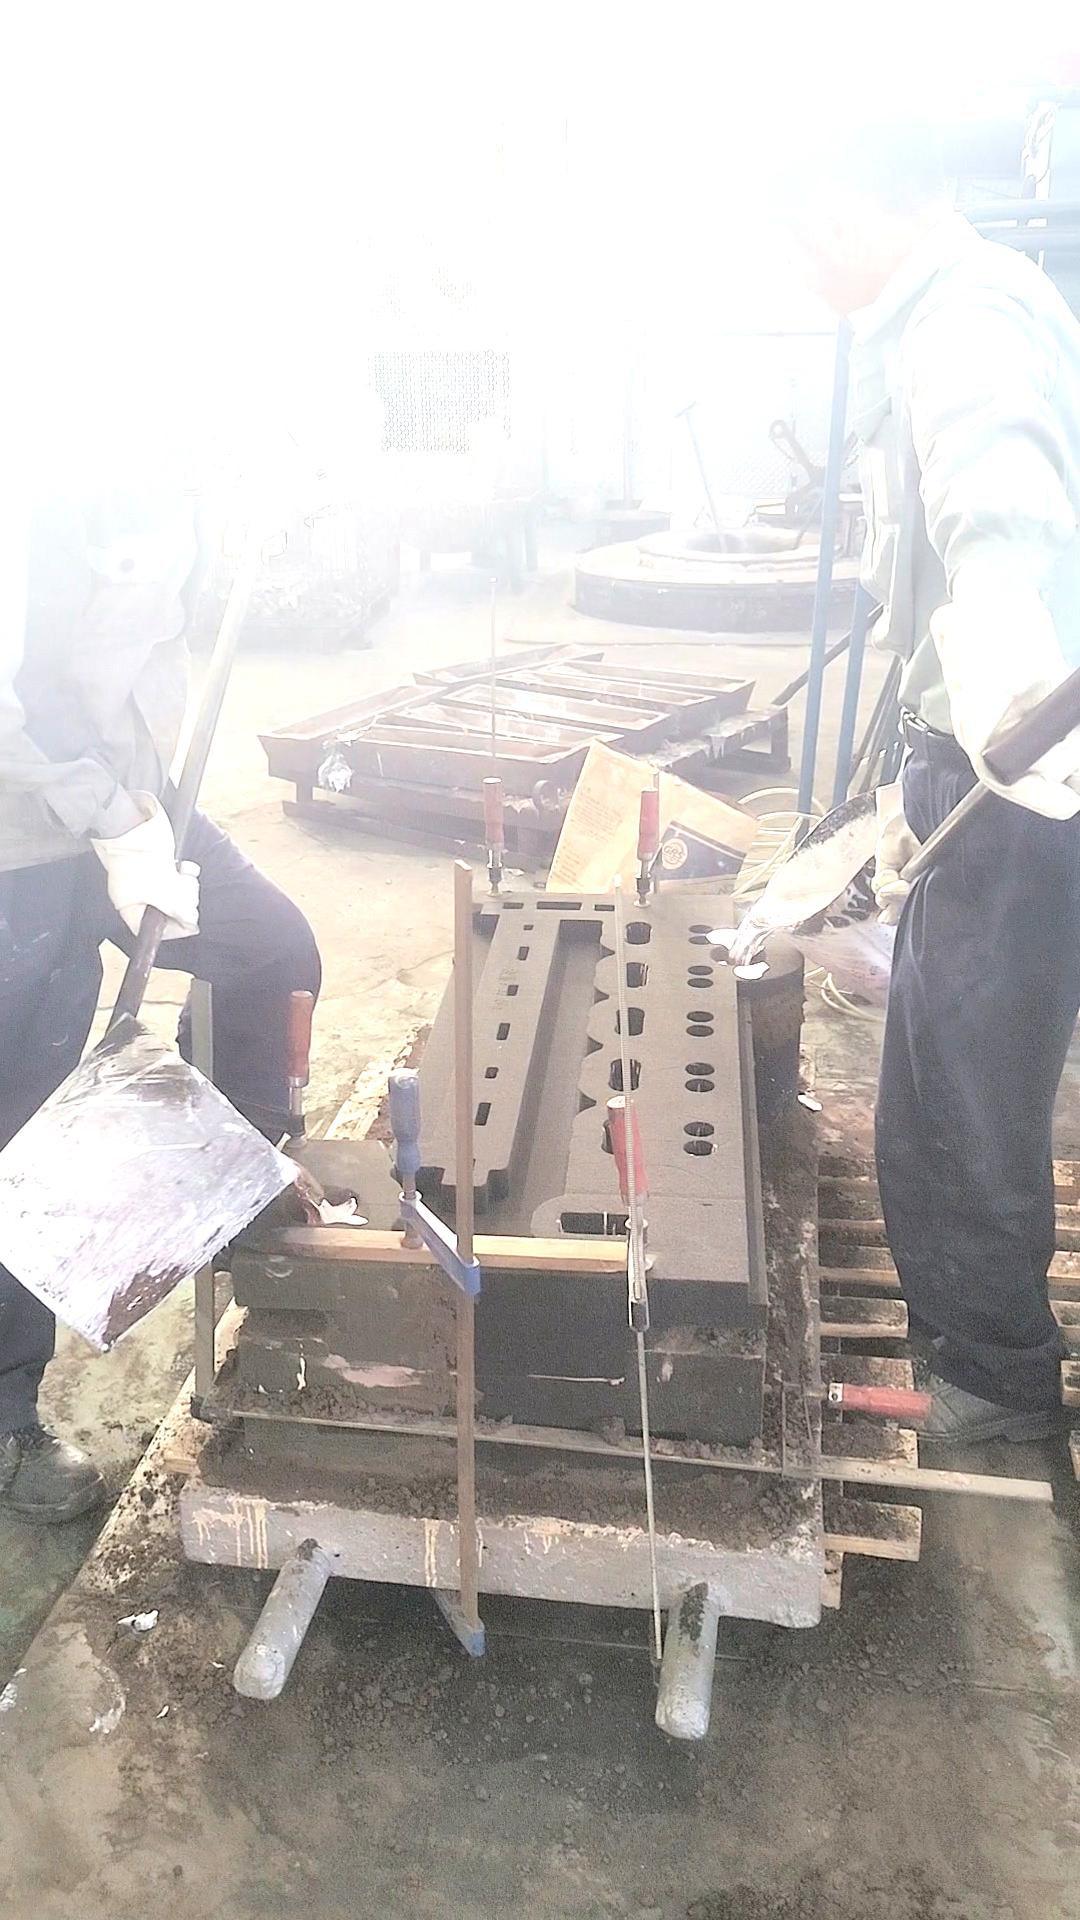pouring hole: (285, 1184, 357, 1222), (708, 944, 767, 967)
